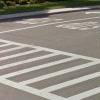Crosswalk: (5, 34, 100, 100)
